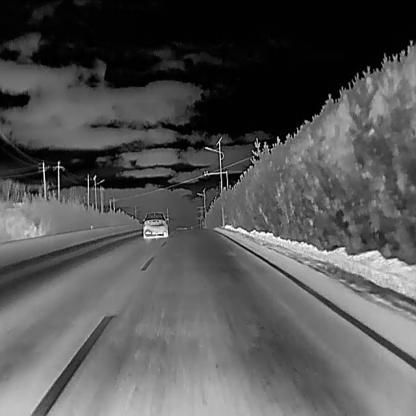car: (142, 211, 168, 240)
